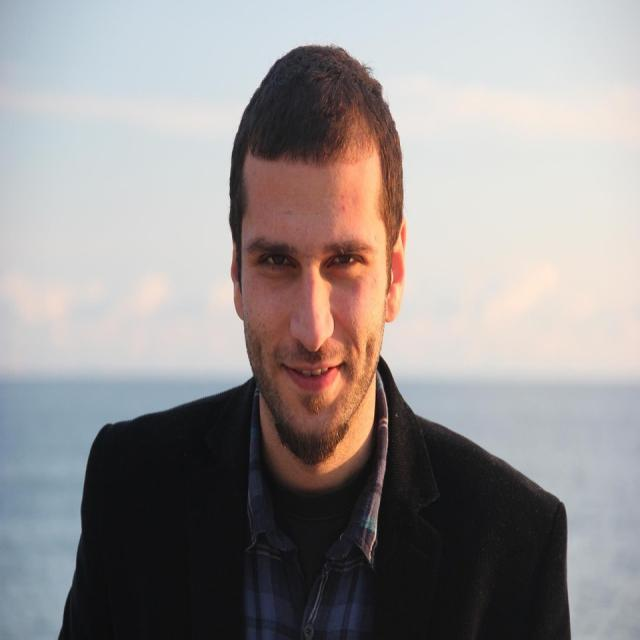human: (59, 41, 574, 640)
